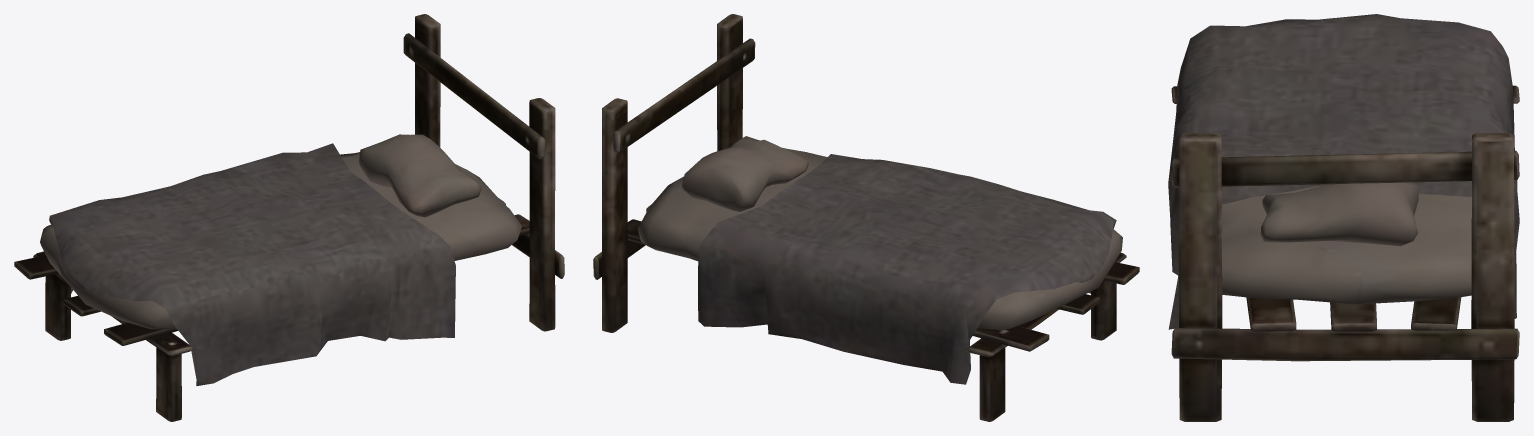
File: SM_BedPrimitive_482a35.glb
3 renders of one model, left to right at view 1: azimuth 30°, elevation 25°; view 2: azimuth 150°, elevation 25°; view 3: azimuth 270°, elevation 25°, orthographic. The views are drawn at different scales.
Size of the model in its own units: 2.92 by 1.44 by 1.61.
Materials: 1 (1 with a texture image).
